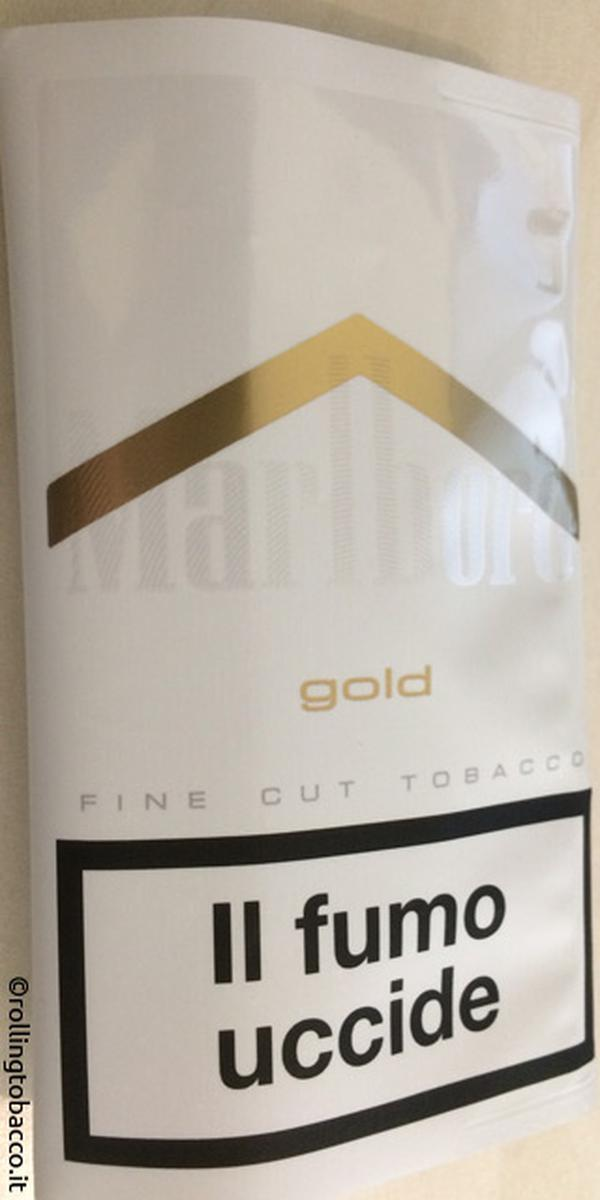marlboro_gold: (24, 85, 578, 1078)
